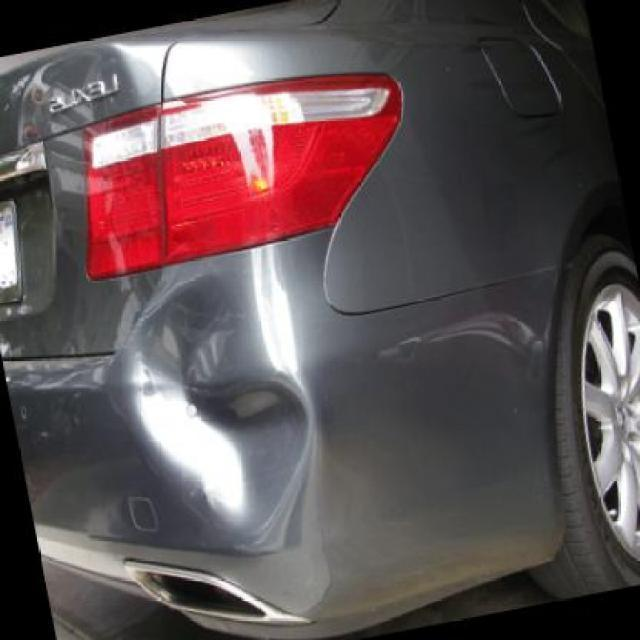dent: (118, 283, 309, 551)
